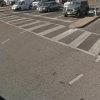Crosswalk: (3, 11, 100, 71)
